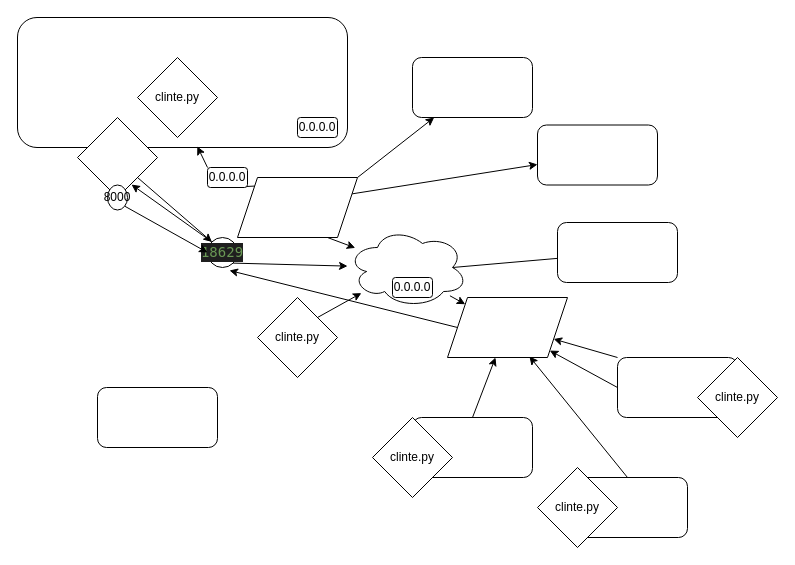
Some shapes in this 795 by 565 pixel diagram are drawn without their labels. Each missing label, with the box of its shape:
ahmed wireless: (236, 176, 358, 238)
internet: (346, 226, 468, 308)
njoud wireless: (446, 296, 568, 358)
Port Fowrording: (96, 386, 218, 448)
server.py: (76, 116, 158, 198)
